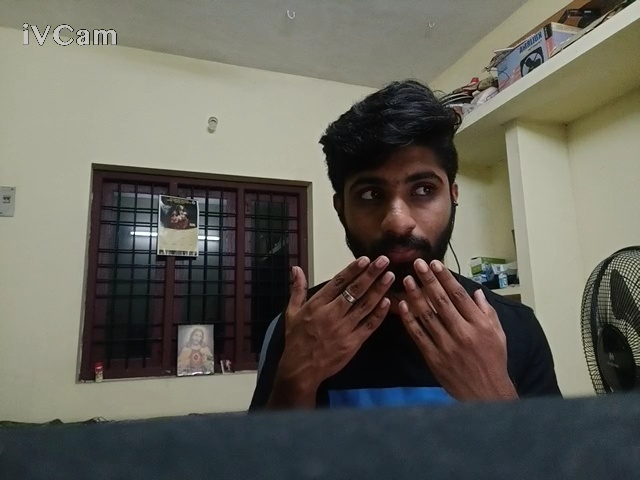Thank You: (267, 228, 518, 480)
